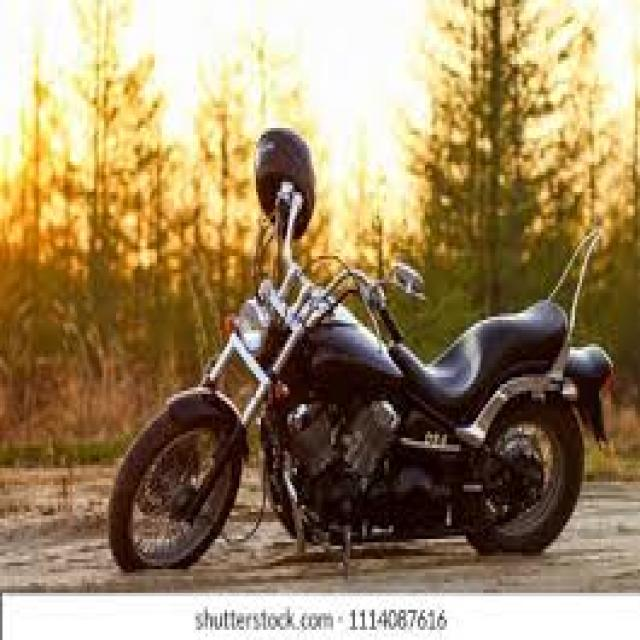Bike: (107, 127, 616, 578)
